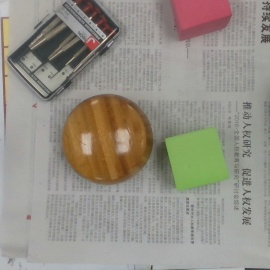chess: (60, 94, 154, 187)
